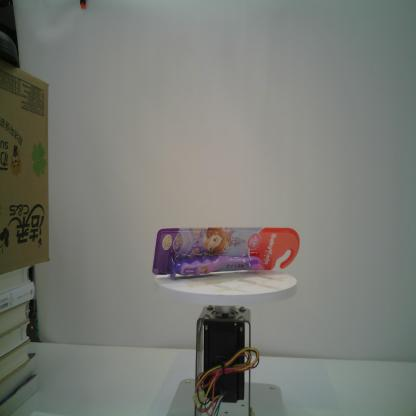Personal Hygiene: (152, 226, 300, 281)
